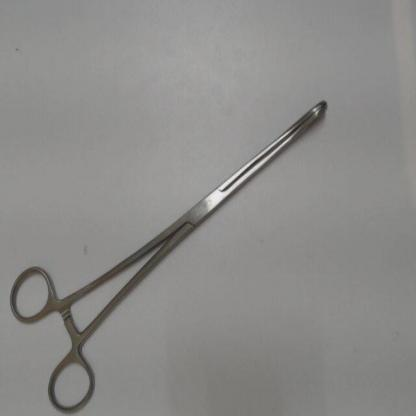Sponge Forceps: (5, 90, 341, 416)
